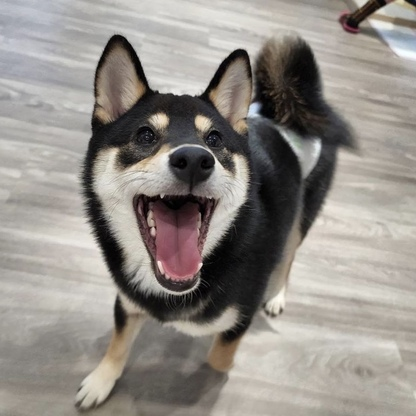shiba: (71, 27, 369, 412)
